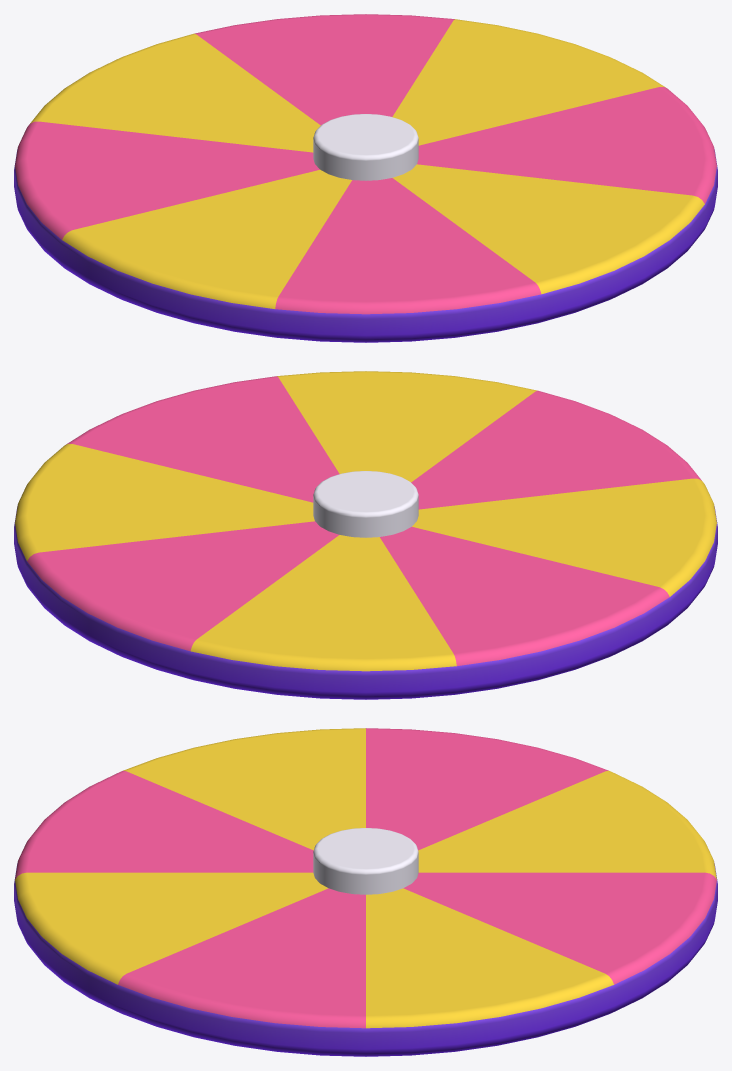
File: spinner_disc_8.glb
The picture shows the model from 3 angles, top to bottom: view 1: azimuth 30°, elevation 25°; view 2: azimuth 150°, elevation 25°; view 3: azimuth 270°, elevation 25°; orthographic projection.
Parts seen in each view (by area): view 1: spinner_disc_8; view 2: spinner_disc_8; view 3: spinner_disc_8.
Part boxes in pixels (x1,y1,x2,y2): spinner_disc_8: (14,14,717,342); spinner_disc_8: (14,371,717,699); spinner_disc_8: (14,728,717,1056).
Size of the model in its own units: 8 by 0.8 by 8.
Materials: 1 (1 with a texture image).
